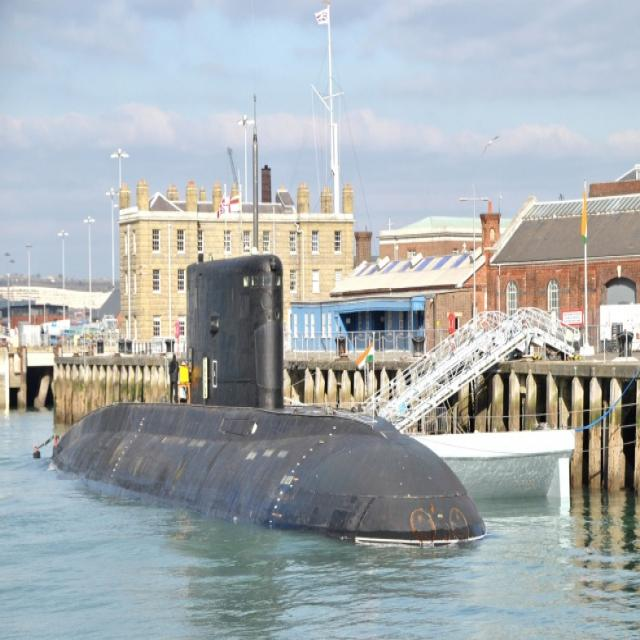submarine: (44, 254, 495, 535)
